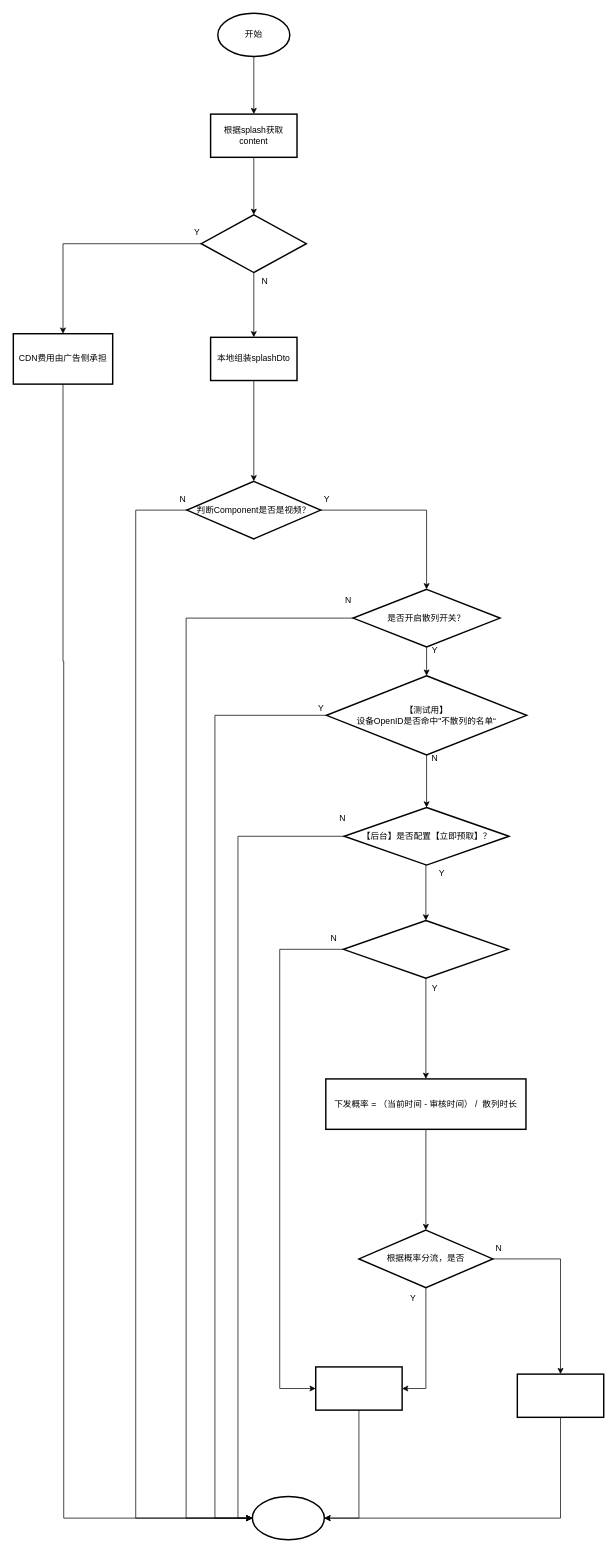
This 616x1552 diagram has some shape labels left out. Each missing label, with the centre of its shape:
QPS限制: pixel 358 1388
审核通过时间是否在1小时内? （散列时长可配置）: pixel 425 948
是否请求广告侧？: pixel 253 243
结束: pixel 288 1517
过滤视频Component: pixel 560 1395
